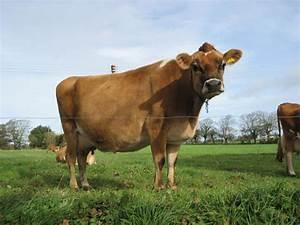cow: (54, 41, 243, 192), (275, 102, 299, 176)
